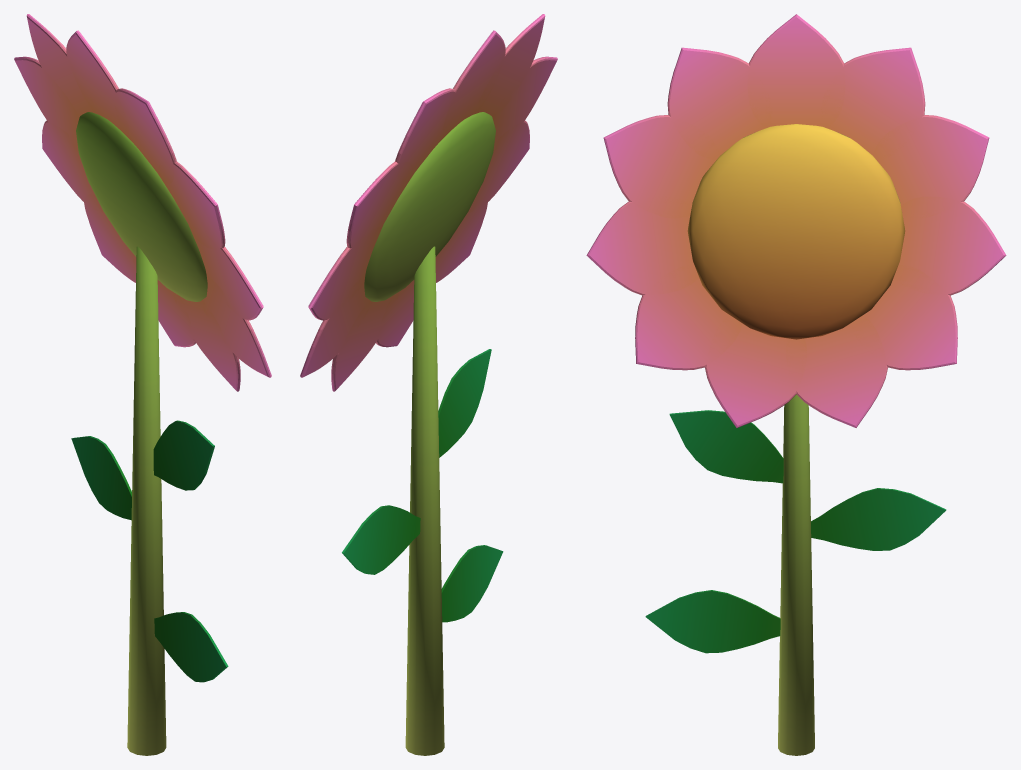
Rendered from Flower.fbx.
3 views of the same model, side by side, from view 1: azimuth 30°, elevation 25°; view 2: azimuth 150°, elevation 25°; view 3: azimuth 270°, elevation 25° (orthographic). The views are drawn at different scales.
Visible parts, largest first — view 1: Plane, Cylinder, Icosphere, Plane.002; view 2: Plane, Cylinder, Icosphere, Plane.002; view 3: Plane, Icosphere, Plane.002, Cylinder.
Part boxes in pixels (bbox=[...]): Plane: bbox=[14, 14, 271, 391]; Cylinder: bbox=[127, 246, 166, 755]; Icosphere: bbox=[76, 112, 207, 301]; Plane.002: bbox=[71, 420, 228, 682]; Plane: bbox=[300, 14, 557, 391]; Cylinder: bbox=[405, 246, 444, 755]; Icosphere: bbox=[364, 112, 495, 301]; Plane.002: bbox=[342, 349, 503, 622]; Plane: bbox=[586, 14, 1006, 427]; Icosphere: bbox=[687, 124, 905, 339]; Plane.002: bbox=[645, 410, 946, 653]; Cylinder: bbox=[778, 394, 814, 755].
Size of the model in its own units: 49.1 by 260 by 141.
1 material, 1 textured.
